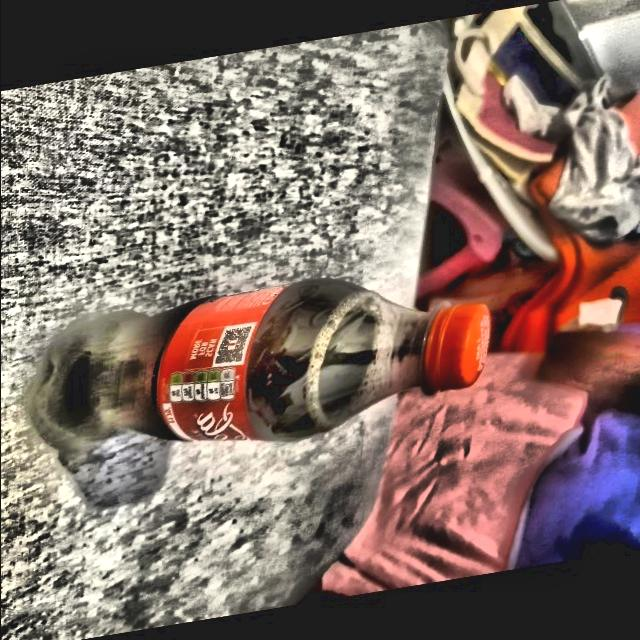coke-bottle: (39, 282, 497, 456)
